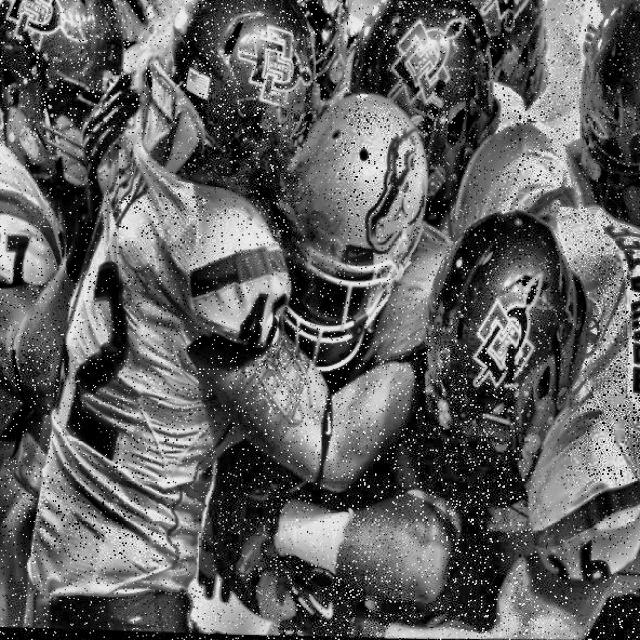Helmet: (414, 198, 602, 492), (278, 81, 440, 397), (165, 0, 328, 198), (0, 0, 134, 226), (576, 0, 640, 275)
